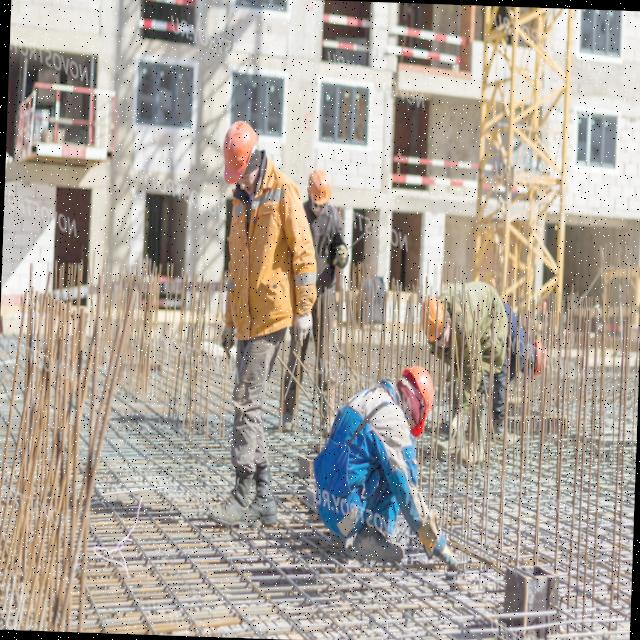Helmet: (222, 120, 261, 187), (402, 363, 437, 435), (420, 297, 454, 348), (307, 170, 334, 208)
Jacket: (229, 181, 292, 329)
NoJacket: (330, 391, 408, 516), (452, 284, 503, 351), (310, 214, 339, 295)
